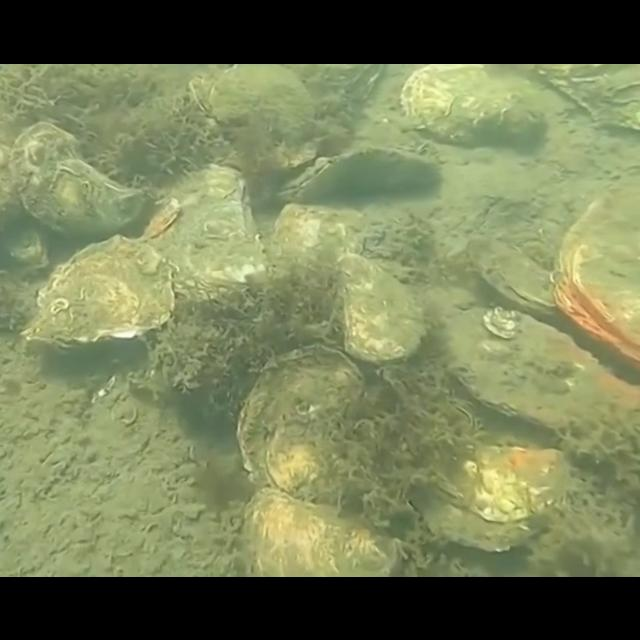Oyster-Closed: (440, 304, 640, 482), (234, 342, 368, 510), (140, 162, 272, 306), (19, 233, 177, 353), (406, 438, 572, 552), (8, 120, 148, 238), (237, 486, 403, 576), (399, 64, 549, 150), (206, 62, 316, 176), (334, 250, 428, 364), (270, 200, 366, 308), (274, 144, 443, 204), (465, 232, 563, 314), (532, 62, 640, 132)
Oyster-Open: (548, 174, 640, 362)
